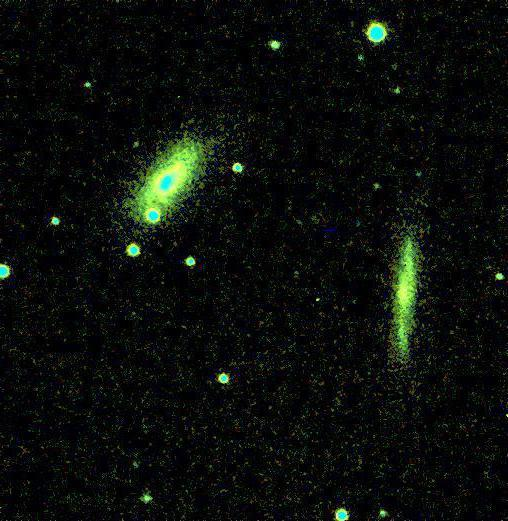star: (302, 285, 332, 315)
